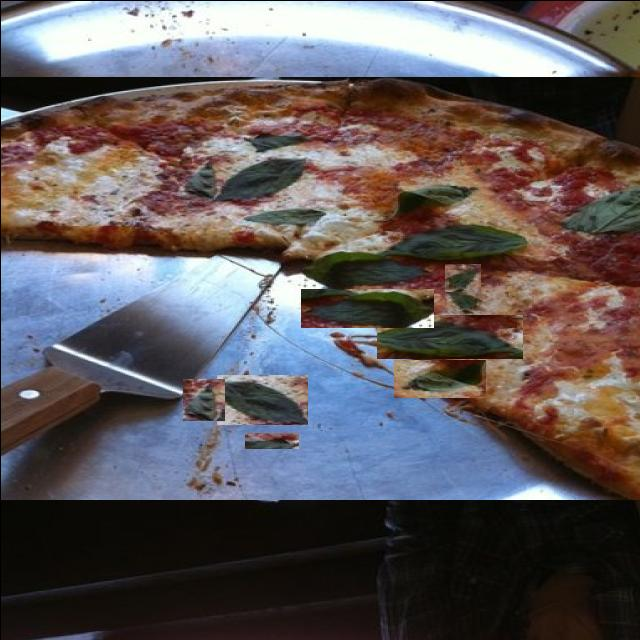basil: (376, 314, 522, 358), (300, 288, 433, 327), (559, 338, 640, 397), (215, 374, 306, 424), (393, 359, 485, 397), (182, 378, 223, 420), (248, 351, 323, 373), (444, 263, 480, 291), (244, 432, 298, 448)
pizza: (0, 76, 640, 499)
